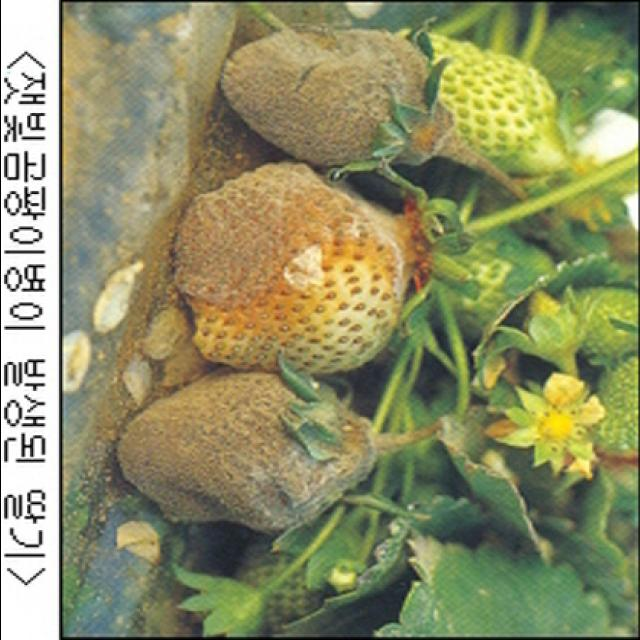Gray Mold: (170, 161, 434, 375), (111, 363, 379, 538), (217, 24, 453, 167)
